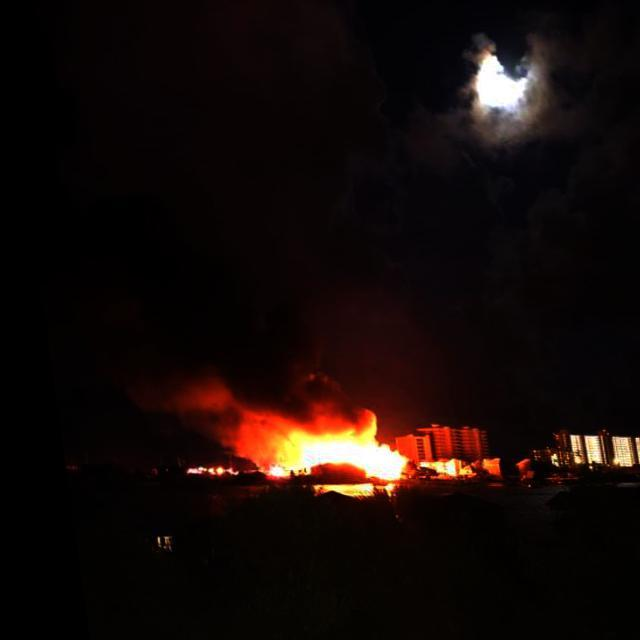Fire: (196, 362, 429, 509)
